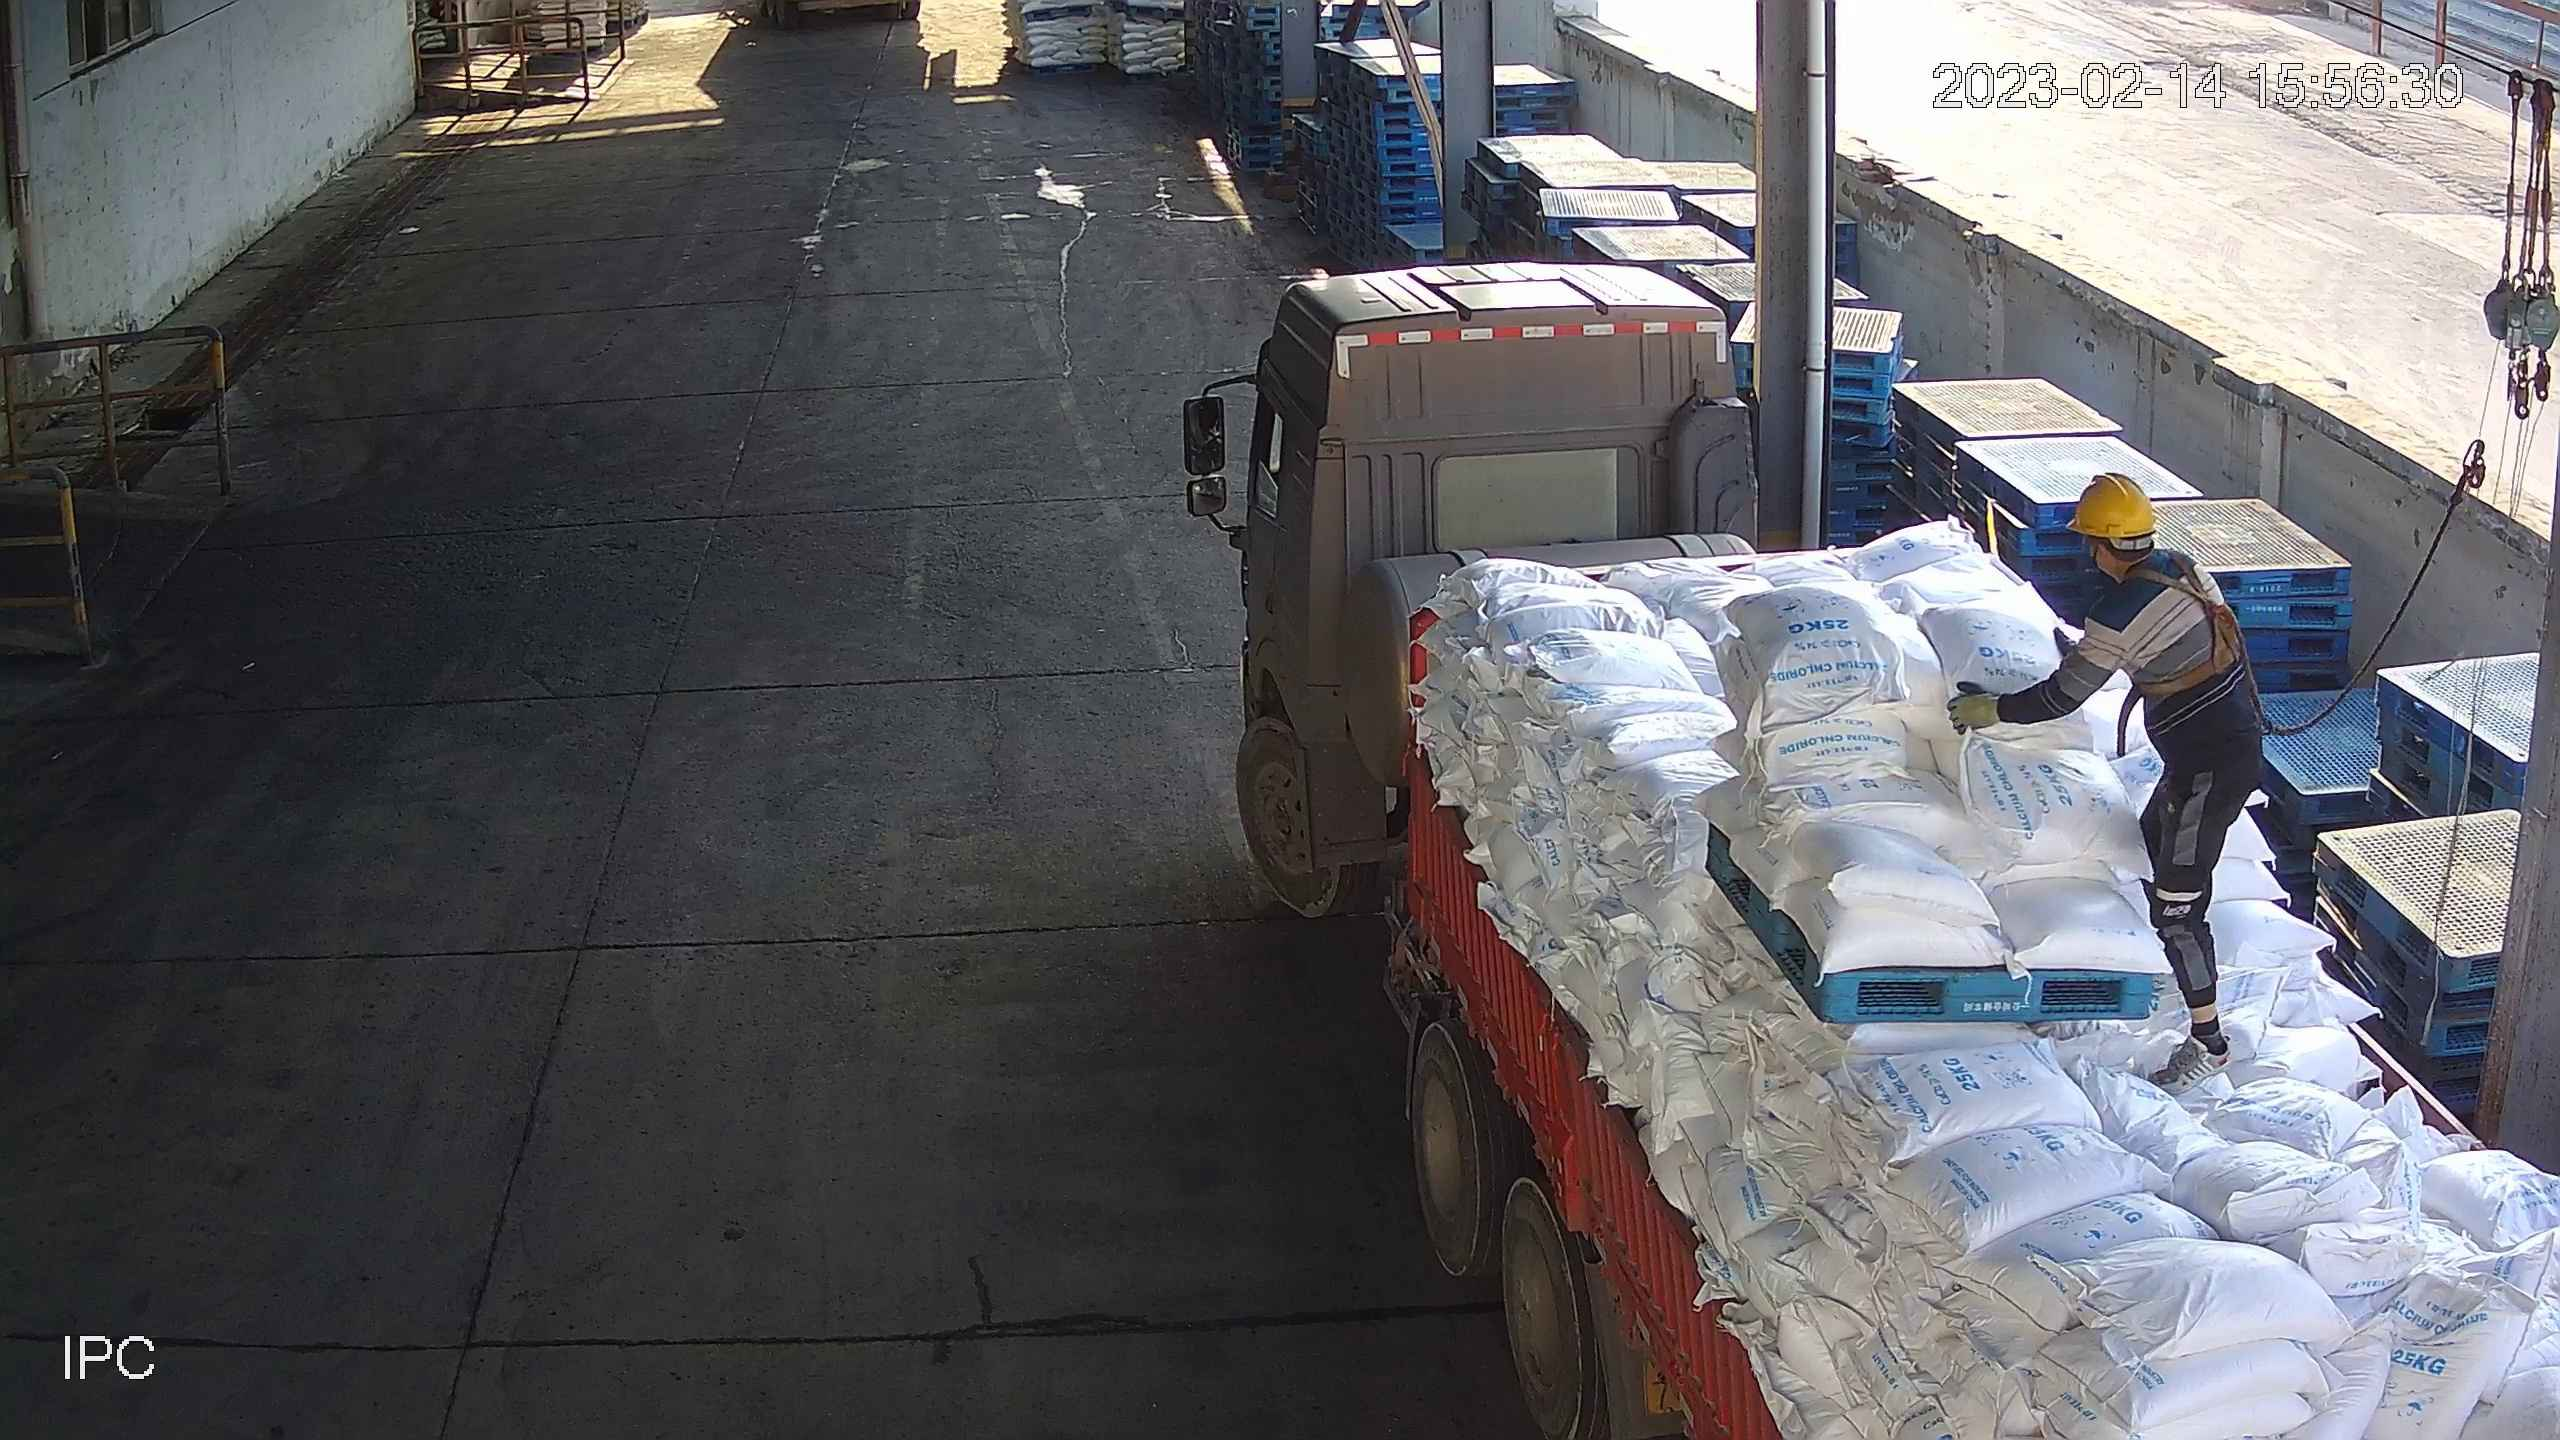belt: (2124, 551, 2251, 698)
head: (2053, 469, 2243, 632)
helmet: (2064, 470, 2158, 539)
people: (1944, 468, 2268, 1095)
truck: (1231, 257, 2560, 1440)
